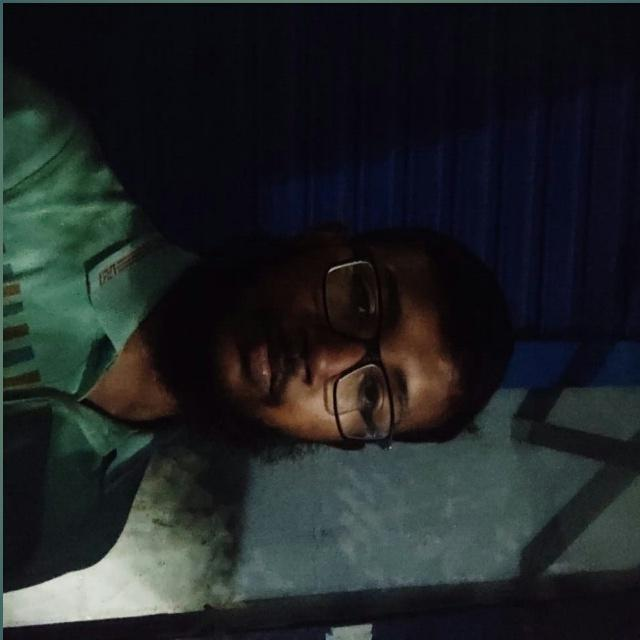Natural: (142, 159, 565, 513)
